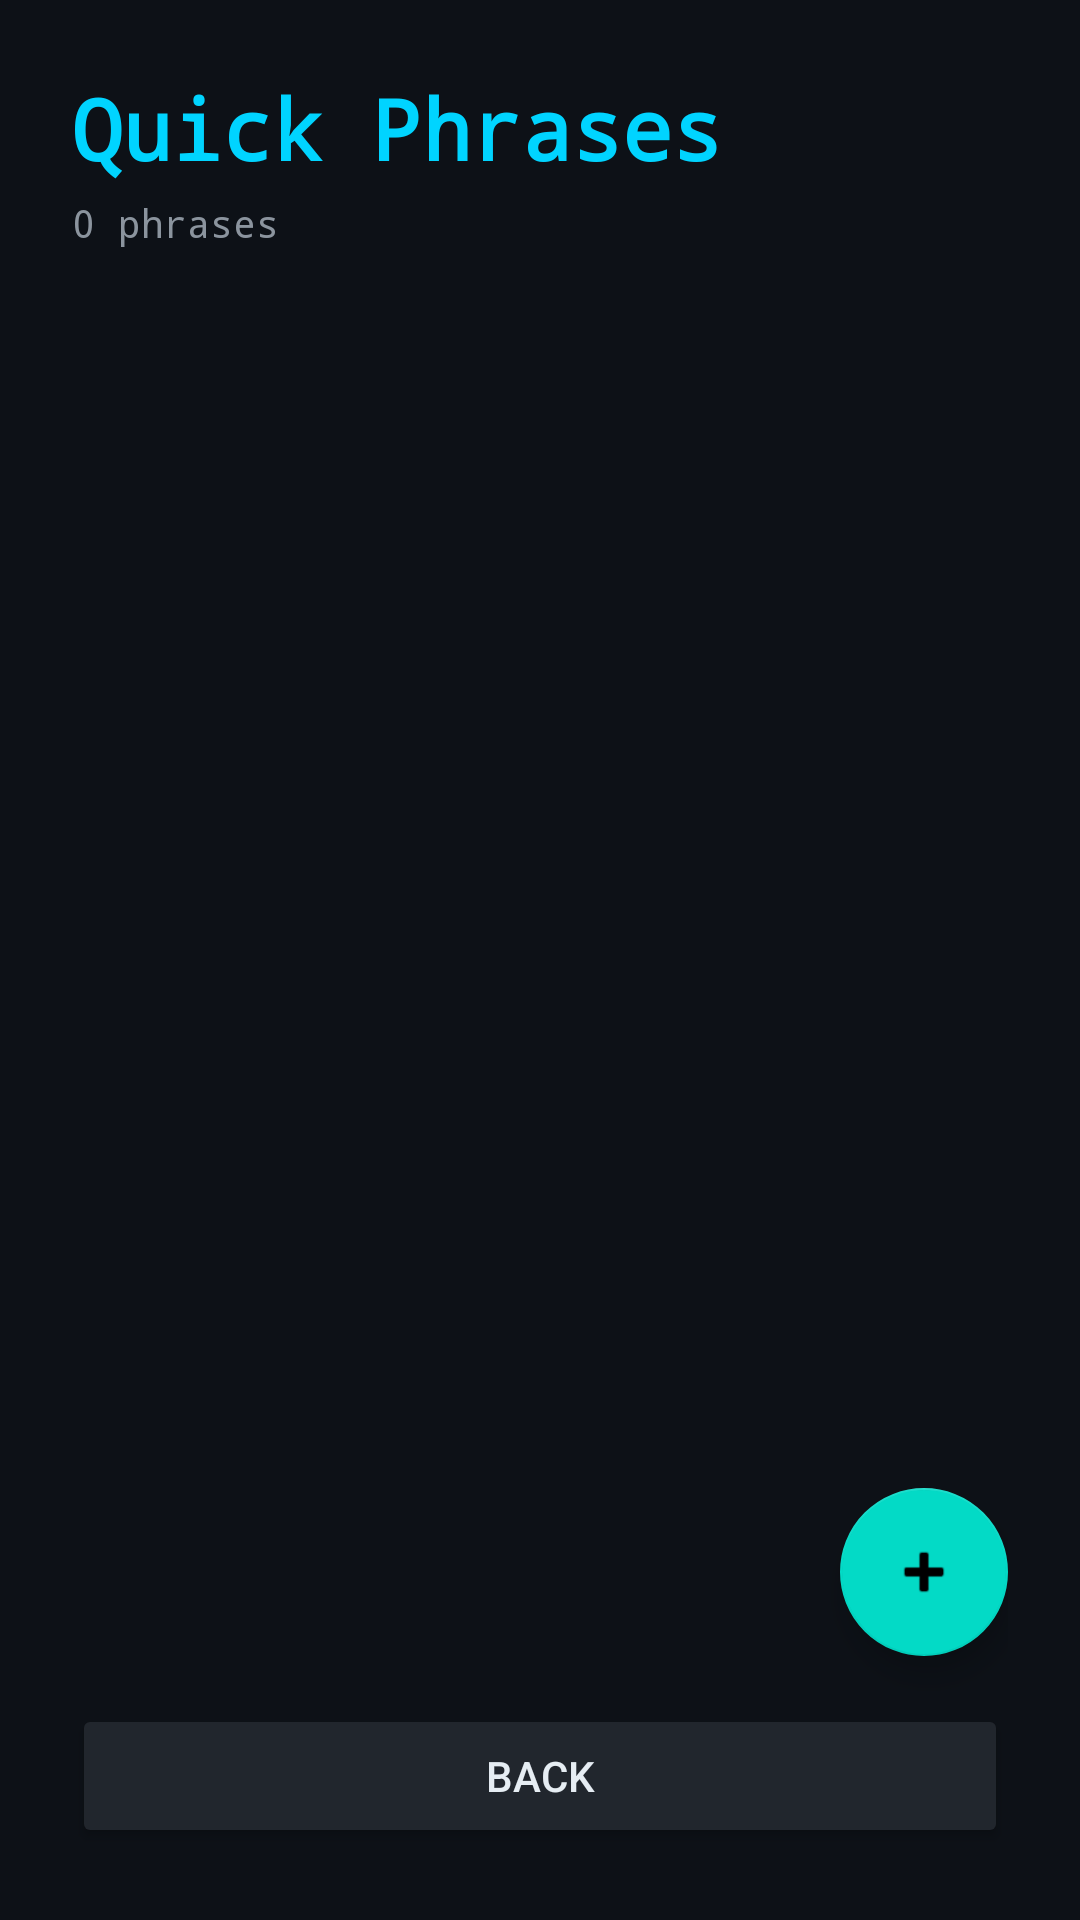

Named icons in this screenshot (1080 x 1920) and their centers, point (x, y):
Add phrase: point (924, 1572)
